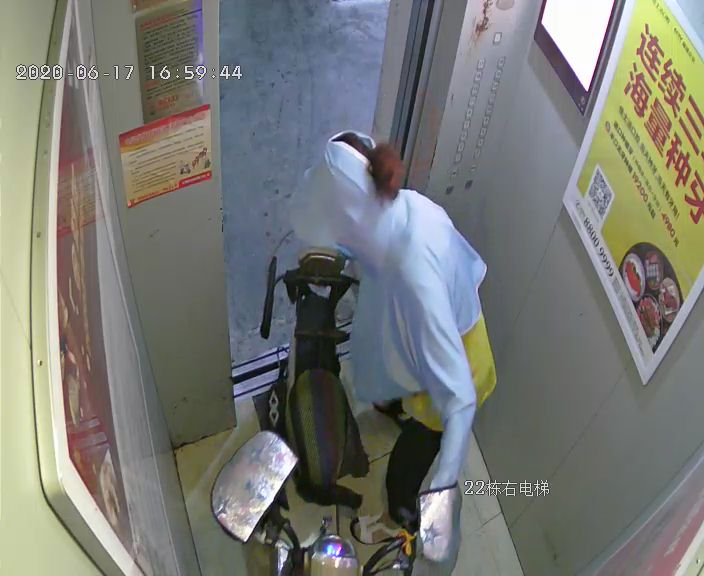Electric-bicycle: (217, 251, 442, 574)
